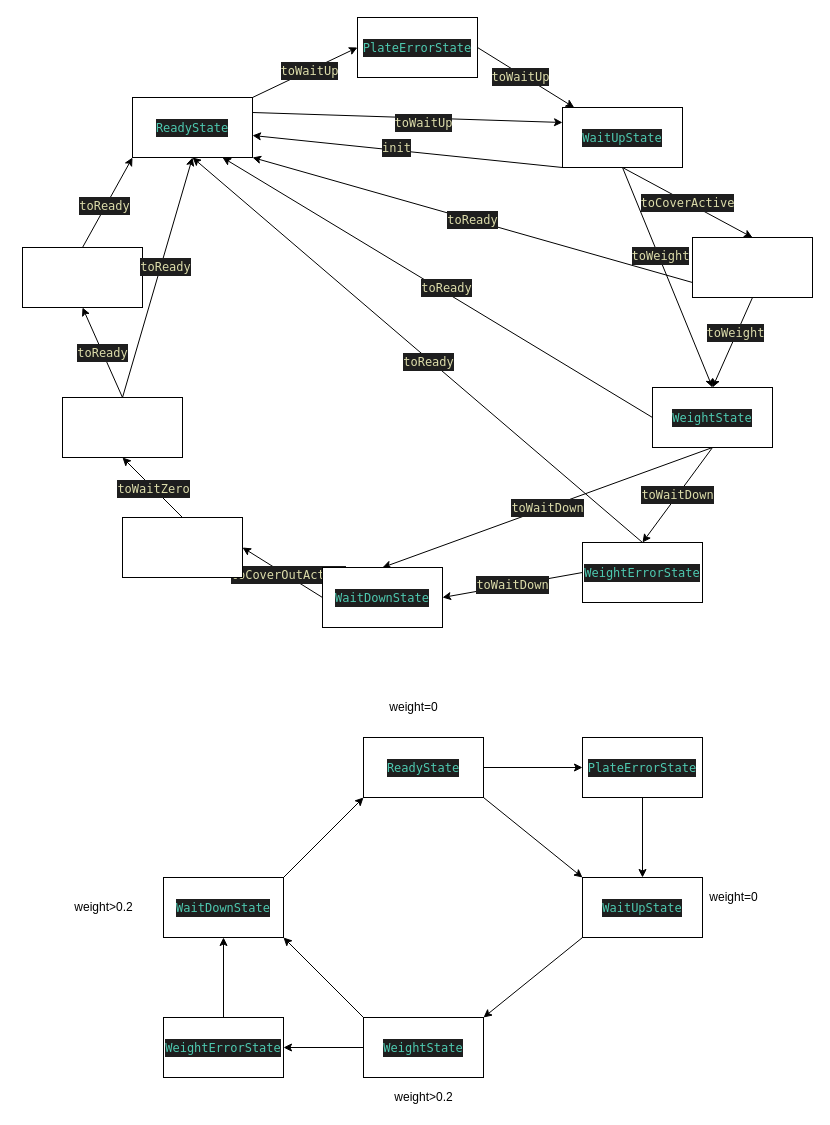
Image size: 830x1125. Some labels were removed from this diagram. Here are the shapes that lost their labels. From the top down, the centre of each, then its label:
At point 82,277: "WaitZeroErrorState".
At point 752,267: "CoverActiveState".
At point 122,427: "WaitZeroState".
At point 182,547: "CoverOutActiveState".
